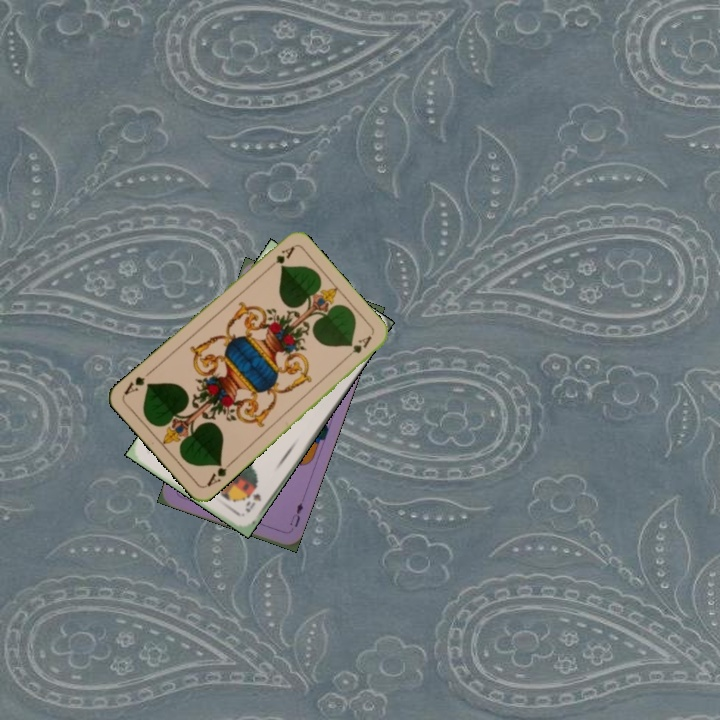EU: (286, 498, 306, 530)
GA: (202, 457, 235, 489), (263, 242, 297, 273)
SO: (241, 489, 264, 515)
